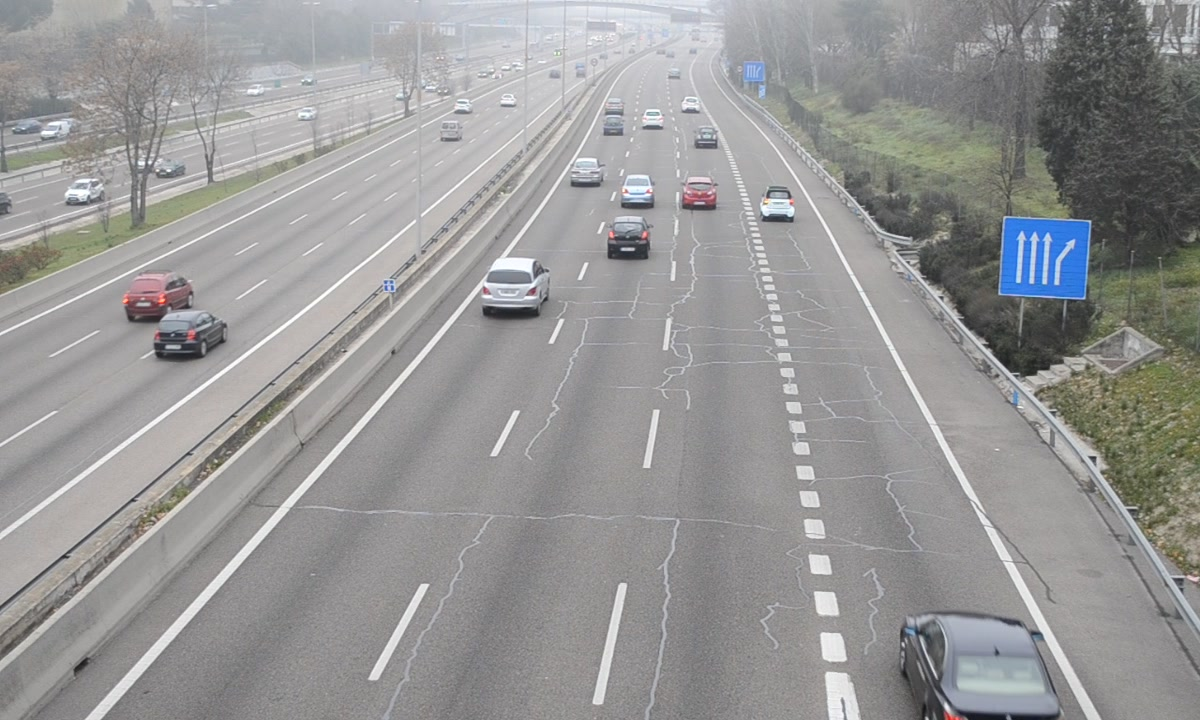car: (903, 609, 1068, 720), (482, 255, 551, 312), (606, 216, 653, 260), (761, 185, 796, 223), (621, 174, 656, 209), (683, 177, 719, 211), (569, 158, 605, 189), (693, 126, 720, 150), (639, 108, 665, 129), (601, 116, 626, 137)
